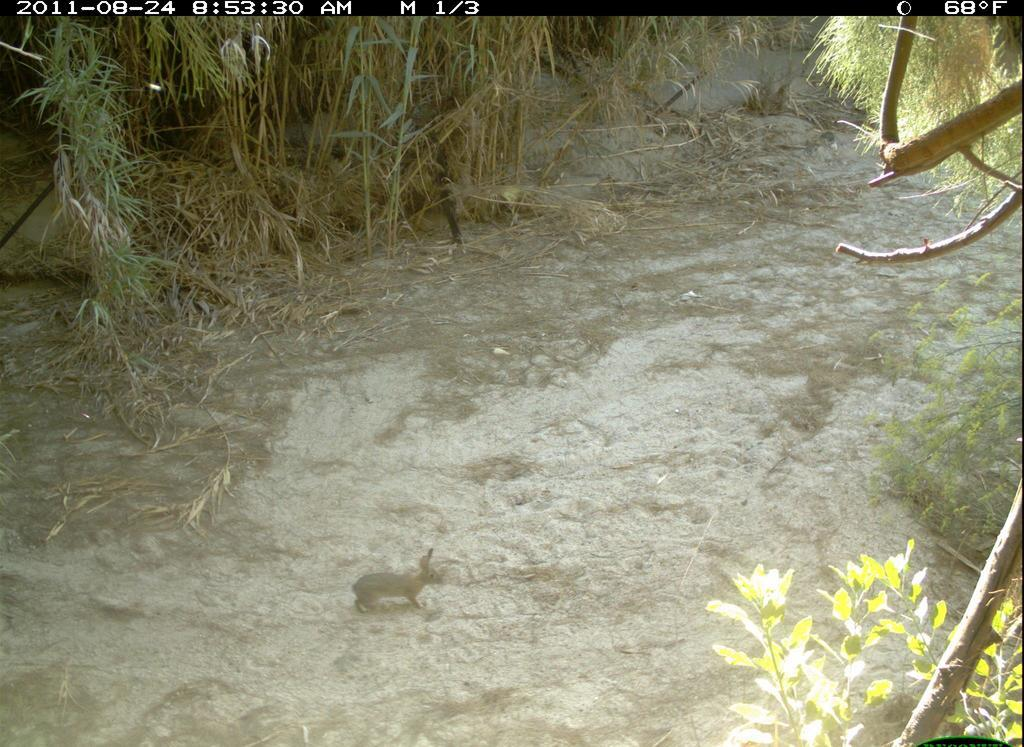rabbit: (350, 545, 449, 615)
